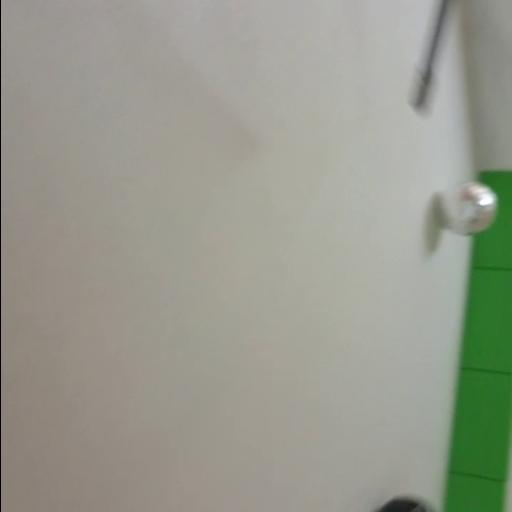alive: (438, 180, 497, 234)
dead: (375, 495, 437, 512)
